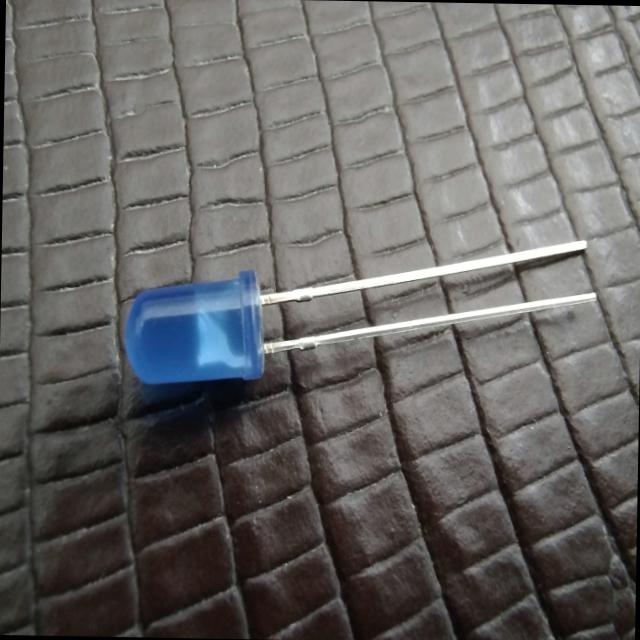blue_led: (122, 266, 266, 388)
